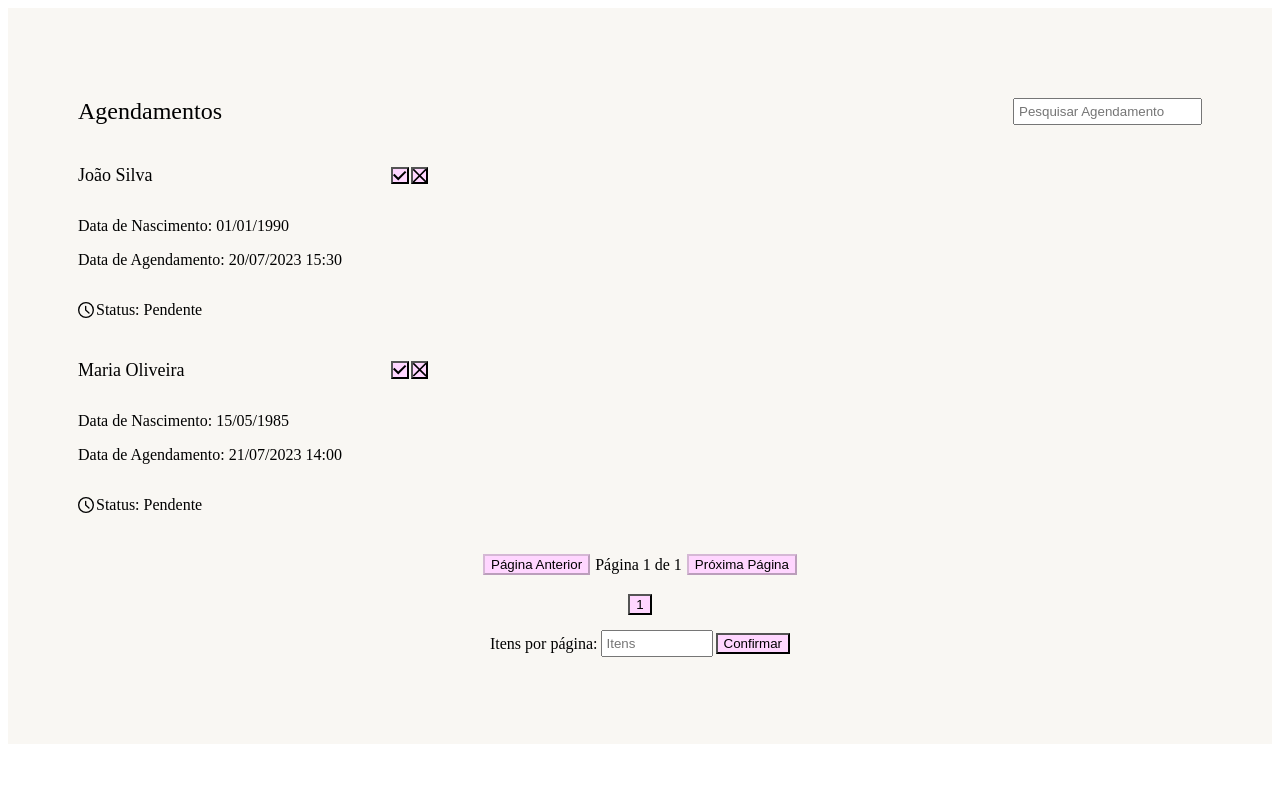
Scenario: deve filtrar agendamentos ao pesquisar
The image size is (1280, 800).
Expected: the heading "João Silva" is shown, [78,165,152,186]
Expected: the heading "Maria Oliveira" is shown, [78,360,184,381]
Type "João" into the field with placeholder "Pesquisar Agendamento" at (1108, 111), box [1013,98,1202,125]
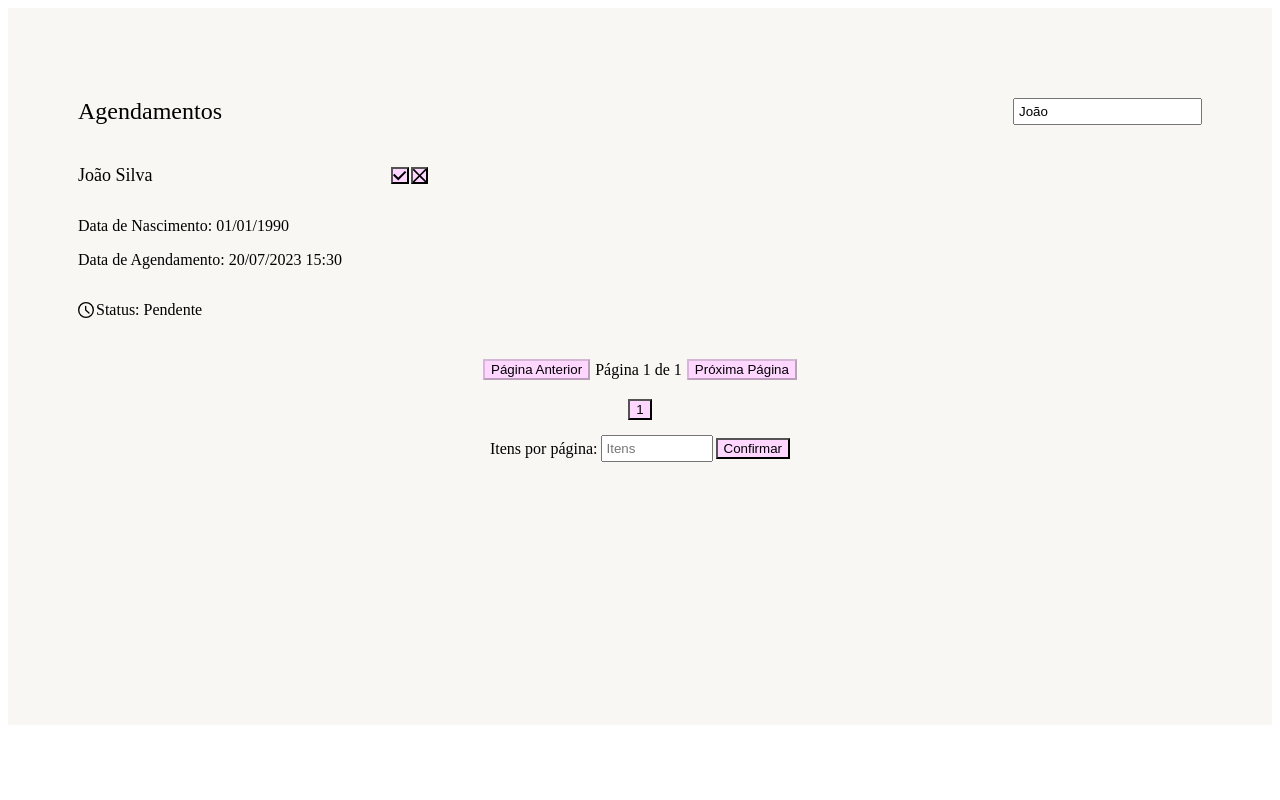
Expected: the heading "João Silva" is shown, [78,165,152,186]
Now the heading "Maria Oliveira" is gone
